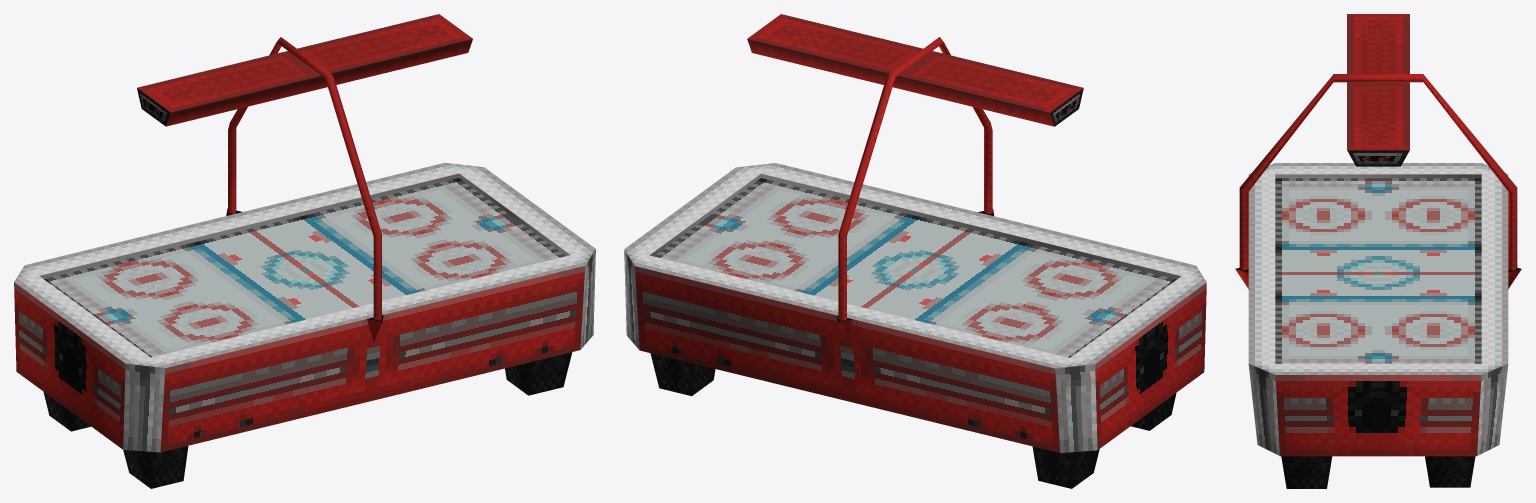
The model's file is psx_low-poly_air-hockey_table.glb.
The picture shows the model from 3 angles, left to right: view 1: azimuth 30°, elevation 25°; view 2: azimuth 150°, elevation 25°; view 3: azimuth 270°, elevation 25°; orthographic projection. The views are drawn at different scales.
Parts seen in each view (by area): view 1: Object_2; view 2: Object_2; view 3: Object_2.
Boxes of the visible parts, bbox=[...] form: Object_2: bbox=[14, 14, 595, 488]; Object_2: bbox=[624, 14, 1206, 488]; Object_2: bbox=[1235, 14, 1521, 488].
Size of the model in its own units: 11.2 by 7.9 by 6.4.
1 material, 1 textured.
